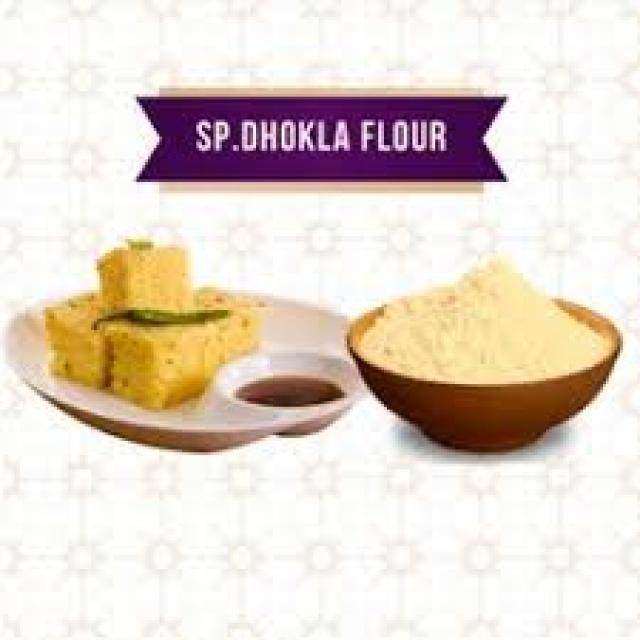DHOKLA: (63, 236, 253, 407)
